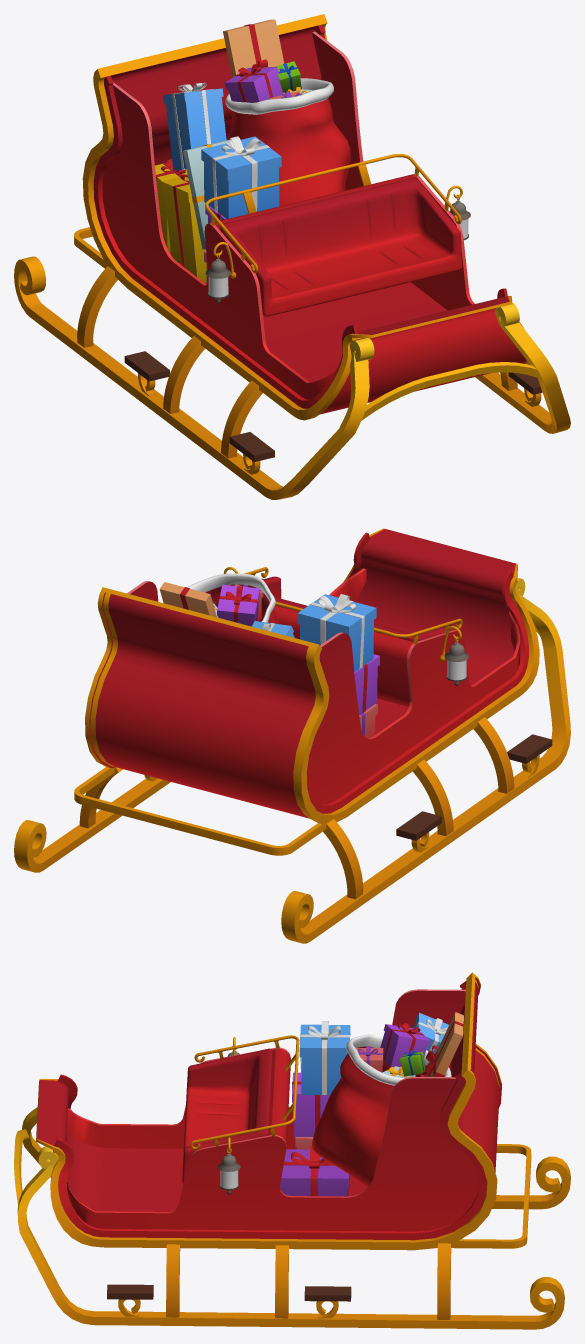
The model's file is Treno.fbx.
The picture shows the model from 3 angles, top to bottom: view 1: azimuth 30°, elevation 25°; view 2: azimuth 150°, elevation 25°; view 3: azimuth 270°, elevation 25°; orthographic projection. The views are drawn at different scales.
Visible parts, largest first — view 1: Treno; view 2: Treno; view 3: Treno.
Boxes of the visible parts, bbox=[...] form: Treno: bbox=[14, 14, 570, 499]; Treno: bbox=[14, 528, 570, 943]; Treno: bbox=[14, 972, 570, 1329].
Bounding box in the file's own units: 208 × 188 × 366.
